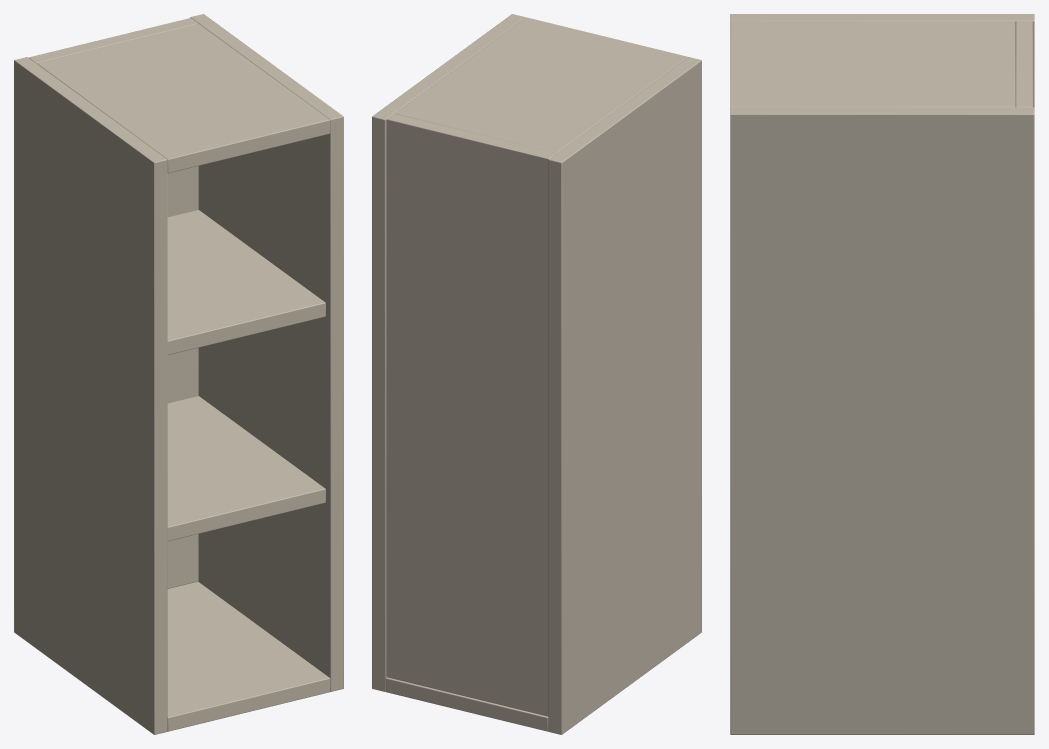
3 views of the same model, side by side, from view 1: azimuth 30°, elevation 25°; view 2: azimuth 150°, elevation 25°; view 3: azimuth 270°, elevation 25° (orthographic). The views are drawn at different scales.
Parts seen in each view (by area): view 1: STRANICA LEVA, POD (×4), STRANICA DESNA, v16; view 2: v16, STRANICA LEVA, POD (×2), STRANICA DESNA; view 3: STRANICA DESNA, POD, STRANICA LEVA, v16.
Boxes of the visible parts, x1,y1,x2,y2 form: STRANICA LEVA: [14, 57, 167, 734]; POD (×4): [36, 23, 330, 731]; STRANICA DESNA: [190, 14, 343, 691]; v16: [29, 18, 198, 588]; v16: [386, 113, 556, 716]; STRANICA LEVA: [548, 57, 701, 734]; POD (×2): [385, 17, 687, 731]; STRANICA DESNA: [372, 14, 525, 691]; STRANICA DESNA: [730, 107, 1034, 734]; POD: [730, 21, 1015, 107]; STRANICA LEVA: [730, 14, 1034, 107]; v16: [1015, 21, 1032, 107].
Size of the model in its own units: 0.25 by 0.72 by 0.32.
Materials: 1 (1 with a texture image).
